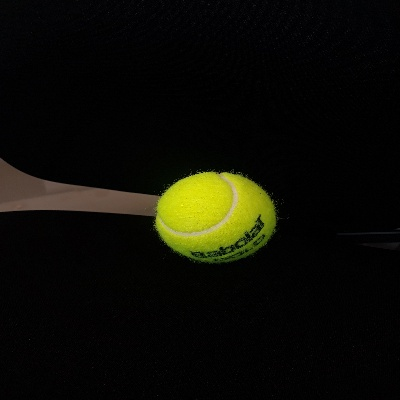Ball: (154, 171, 276, 263)
